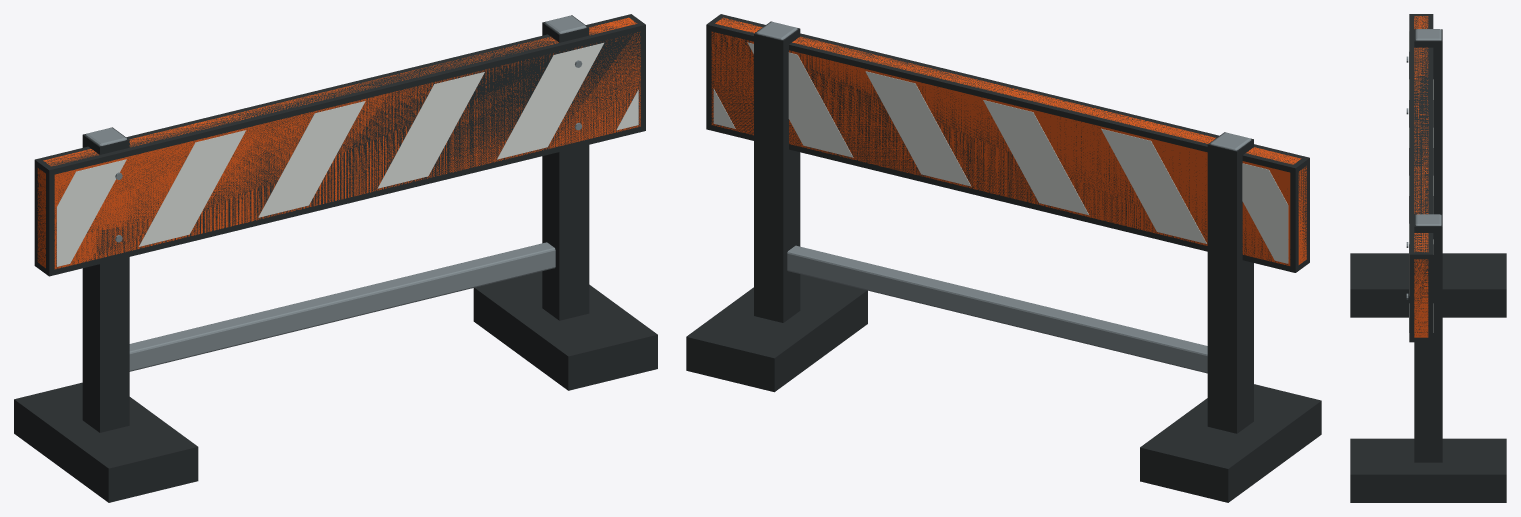
File: SIMUS_Barricade_01.fbx
3 renders of one model, left to right at view 1: azimuth 30°, elevation 25°; view 2: azimuth 150°, elevation 25°; view 3: azimuth 270°, elevation 25°, orthographic. The views are drawn at different scales.
Parts seen in each view (by area): view 1: COL_BARRICADE_01_BOARD, BARRICADE_01_BOARD, BARRICADE_01_REFLECTIVE, BARRICADE_01_LOWER_BRACE, COL_BARRICADE_01_FOOT_0.77, COL_BARRICADE_01_FOOT_-0.77, COL_BARRICADE_01_POST_-0.77, COL_BARRICADE_01_POST_0.77, BARRICADE_01_FOOT_-0.77, BARRICADE_01_FOOT_0.77; view 2: BARRICADE_01_BOARD, COL_BARRICADE_01_BOARD, BARRICADE_01_REFLECTIVE, COL_BARRICADE_01_POST_-0.77, BARRICADE_01_LOWER_BRACE, COL_BARRICADE_01_POST_0.77, COL_BARRICADE_01_FOOT_0.77, COL_BARRICADE_01_FOOT_-0.77, BARRICADE_01_FOOT_0.77, BARRICADE_01_FOOT_-0.77; view 3: COL_BARRICADE_01_FOOT_0.77, COL_BARRICADE_01_BOARD, COL_BARRICADE_01_FOOT_-0.77, BARRICADE_01_FOOT_-0.77, COL_BARRICADE_01_POST_0.77, BARRICADE_01_FOOT_0.77, BARRICADE_01_BOARD, COL_BARRICADE_01_POST_-0.77, BARRICADE_01_REFLECTIVE, BARRICADE_01_POST_-0.77, BARRICADE_01_POST_0.77.
Part boxes in pixels (left/top/right/bottom): COL_BARRICADE_01_BOARD: left=34, top=14, right=645, bottom=276; BARRICADE_01_BOARD: left=37, top=17, right=640, bottom=269; BARRICADE_01_REFLECTIVE: left=56, top=43, right=638, bottom=266; BARRICADE_01_LOWER_BRACE: left=129, top=242, right=555, bottom=371; COL_BARRICADE_01_FOOT_0.77: left=473, top=271, right=657, bottom=390; COL_BARRICADE_01_FOOT_-0.77: left=14, top=382, right=198, bottom=502; COL_BARRICADE_01_POST_-0.77: left=82, top=127, right=129, bottom=432; COL_BARRICADE_01_POST_0.77: left=542, top=15, right=589, bottom=320; BARRICADE_01_FOOT_-0.77: left=18, top=386, right=191, bottom=494; BARRICADE_01_FOOT_0.77: left=477, top=284, right=649, bottom=382; BARRICADE_01_BOARD: left=711, top=17, right=1306, bottom=265; COL_BARRICADE_01_BOARD: left=706, top=14, right=1309, bottom=272; BARRICADE_01_REFLECTIVE: left=713, top=42, right=1288, bottom=263; COL_BARRICADE_01_POST_-0.77: left=1207, top=132, right=1253, bottom=433; BARRICADE_01_LOWER_BRACE: left=787, top=245, right=1207, bottom=373; COL_BARRICADE_01_POST_0.77: left=754, top=21, right=800, bottom=322; COL_BARRICADE_01_FOOT_0.77: left=686, top=274, right=867, bottom=392; COL_BARRICADE_01_FOOT_-0.77: left=1140, top=384, right=1321, bottom=502; BARRICADE_01_FOOT_0.77: left=692, top=277, right=864, bottom=383; BARRICADE_01_FOOT_-0.77: left=1146, top=387, right=1278, bottom=494; COL_BARRICADE_01_FOOT_0.77: left=1350, top=438, right=1506, bottom=502; COL_BARRICADE_01_BOARD: left=1409, top=14, right=1433, bottom=342; COL_BARRICADE_01_FOOT_-0.77: left=1350, top=253, right=1506, bottom=317; BARRICADE_01_FOOT_-0.77: left=1356, top=256, right=1500, bottom=311; COL_BARRICADE_01_POST_0.77: left=1414, top=214, right=1442, bottom=462; BARRICADE_01_FOOT_0.77: left=1356, top=441, right=1500, bottom=497; BARRICADE_01_BOARD: left=1414, top=16, right=1428, bottom=337; COL_BARRICADE_01_POST_-0.77: left=1414, top=29, right=1442, bottom=214; BARRICADE_01_REFLECTIVE: left=1409, top=31, right=1433, bottom=332; BARRICADE_01_POST_-0.77: left=1415, top=29, right=1441, bottom=40; BARRICADE_01_POST_0.77: left=1415, top=214, right=1441, bottom=225.
Size of the model in its own units: 200 by 103 by 55.
